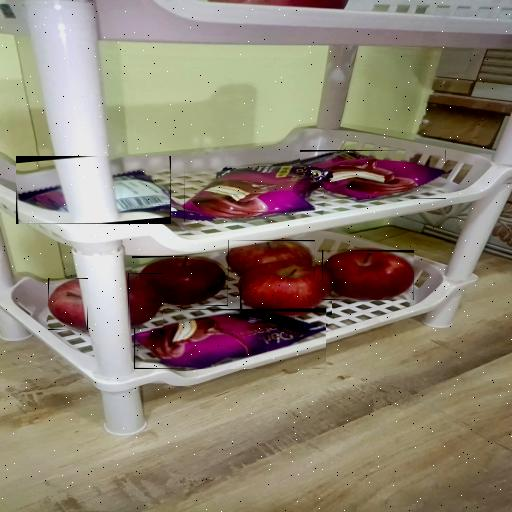Apple: (240, 262, 332, 315), (132, 256, 228, 306), (322, 250, 414, 300), (228, 240, 315, 278), (48, 278, 88, 330), (128, 273, 163, 328)
Choco Pie: (134, 309, 326, 369), (16, 156, 171, 224), (184, 164, 324, 222), (300, 150, 446, 199)
